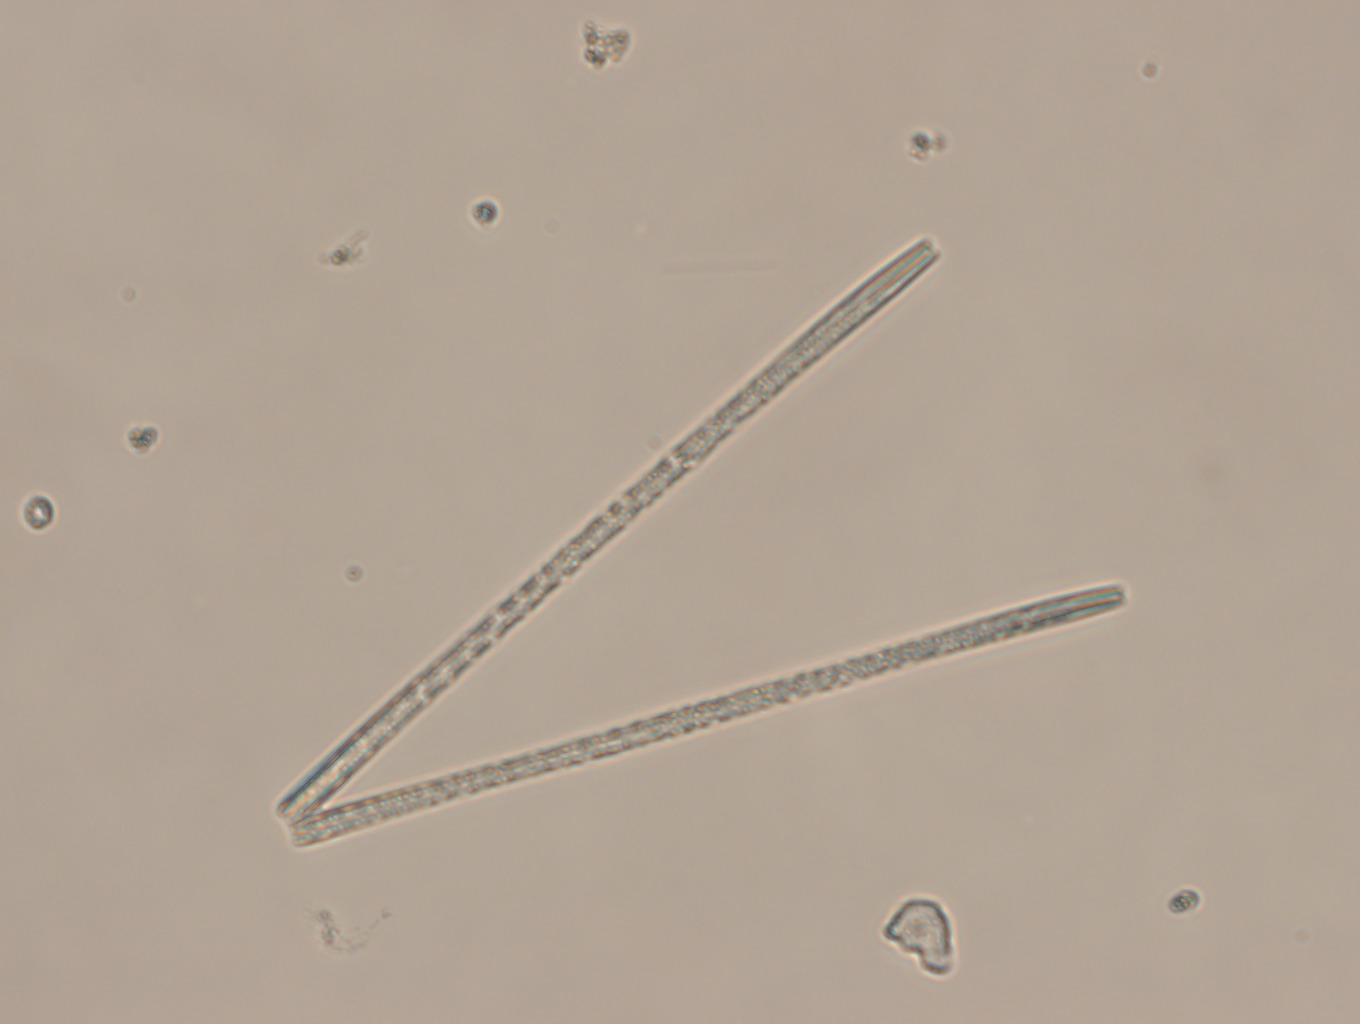thalassionema frauenfeldii: (271, 231, 1135, 849)
